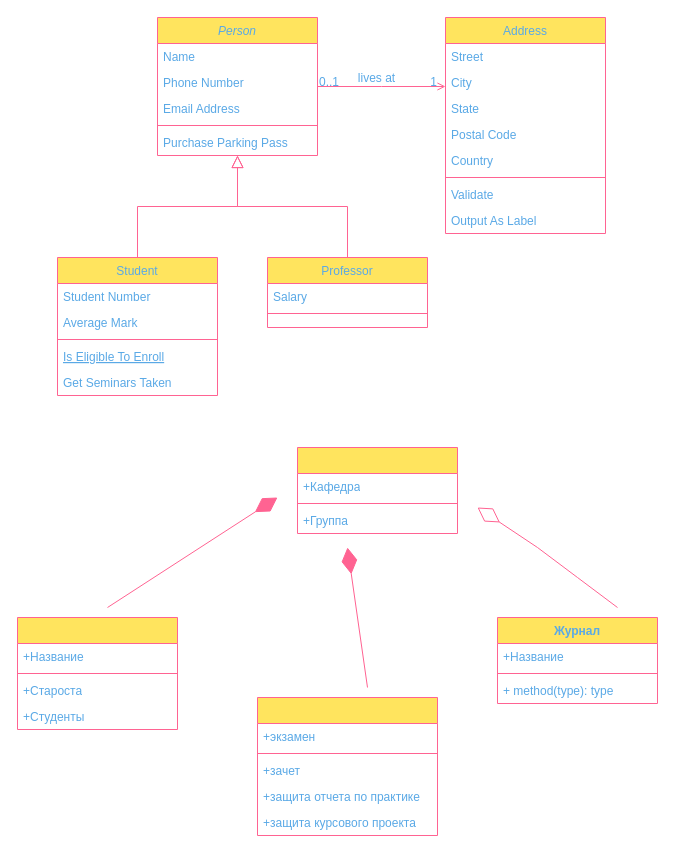
Some shapes in this 675 by 856 pixel diagram are drawn without their labels. Each missing label, with the box of its shape:
Ведомости: (256, 696, 438, 836)
Группа: (16, 616, 178, 730)
Деканат: (296, 446, 458, 534)
